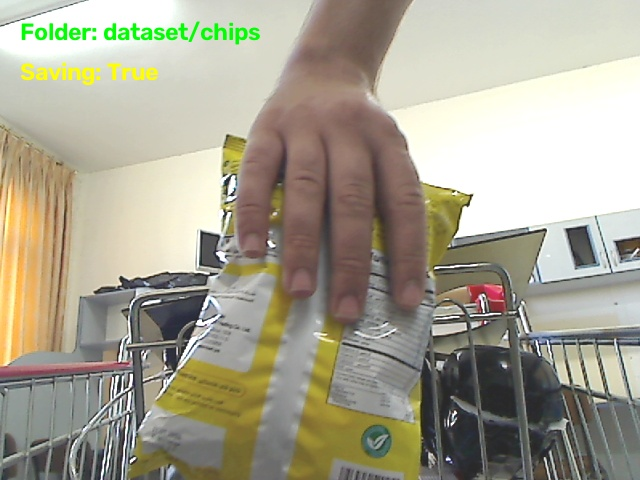chips: (130, 136, 433, 479)
